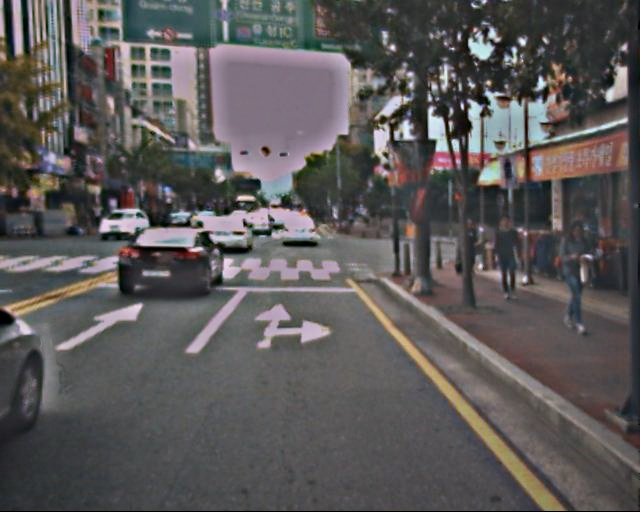person: (552, 220, 600, 331), (489, 216, 523, 300), (456, 218, 483, 282)
